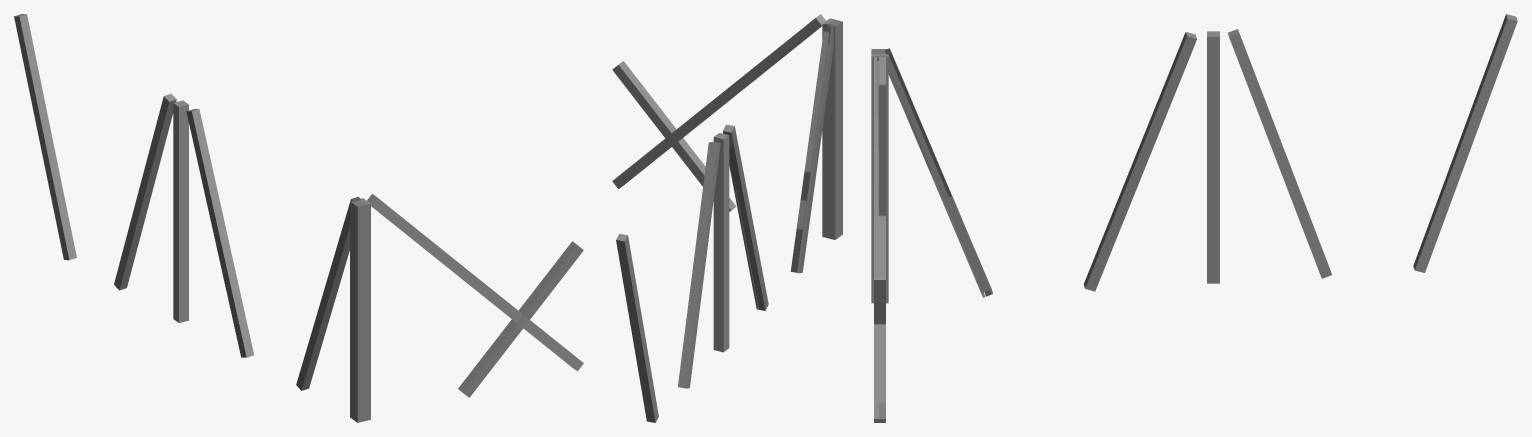
The picture shows the model from 3 angles, left to right: view 1: azimuth 30°, elevation 25°; view 2: azimuth 150°, elevation 25°; view 3: azimuth 270°, elevation 25°; orthographic projection. The views are drawn at different scales.
Bounding box in the file's own units: 1.4 × 1.03 × 2.37.
